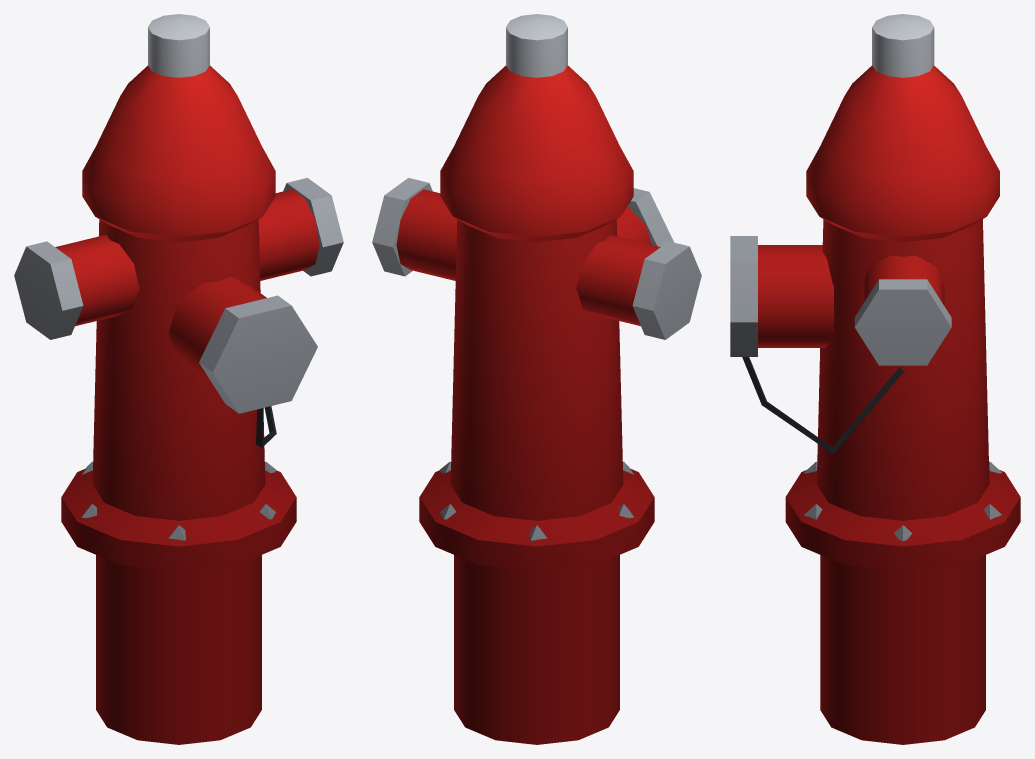
Rendered from Hydrant.fbx.
3 views of the same model, side by side, from view 1: azimuth 30°, elevation 25°; view 2: azimuth 150°, elevation 25°; view 3: azimuth 270°, elevation 25° (orthographic).
Parts seen in each view (by area): view 1: Hydrant_LOD0; view 2: Hydrant_LOD0; view 3: Hydrant_LOD0.
Part boxes in pixels (left/top/right/bottom): Hydrant_LOD0: left=14, top=14, right=343, bottom=744; Hydrant_LOD0: left=372, top=14, right=701, bottom=744; Hydrant_LOD0: left=730, top=14, right=1020, bottom=744.
Size of what is drawn, in the model's own units: 0.47 by 1.1 by 0.42.
Materials: 1 (1 with a texture image).
